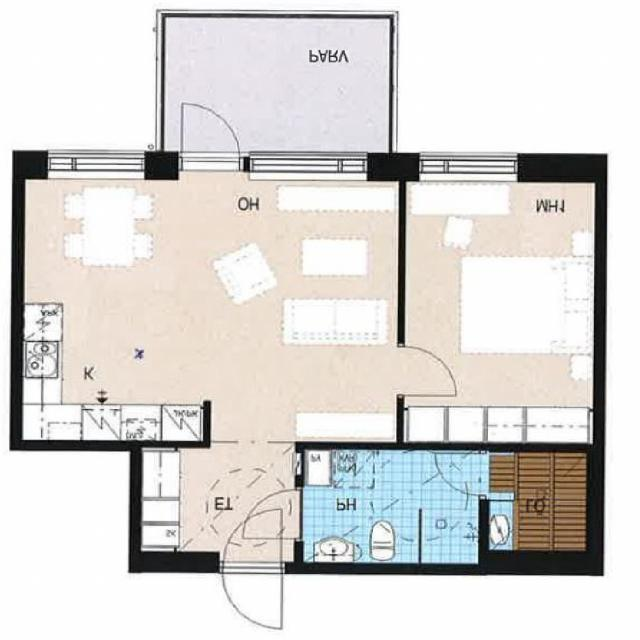door: (183, 98, 240, 180), (223, 564, 282, 629), (223, 510, 282, 575), (243, 490, 303, 539), (398, 347, 457, 395), (434, 454, 488, 495)
